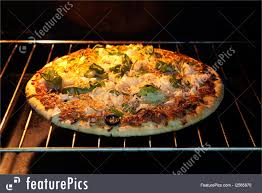pizza: (32, 53, 224, 135)
